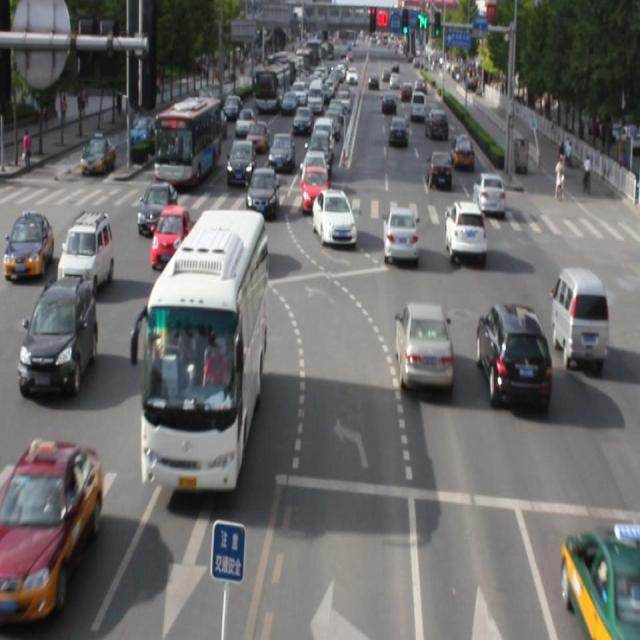car: (1, 437, 101, 620), (20, 276, 97, 392), (560, 530, 640, 640), (475, 300, 548, 408), (395, 298, 452, 389), (310, 188, 357, 246), (152, 204, 192, 267), (444, 200, 485, 260), (139, 180, 178, 237), (381, 207, 417, 262)
truck: (551, 264, 605, 368)
van: (143, 210, 264, 487)
